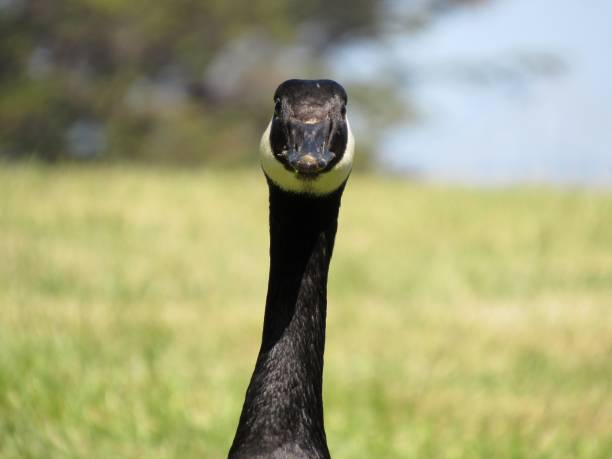goose: (223, 77, 363, 459)
